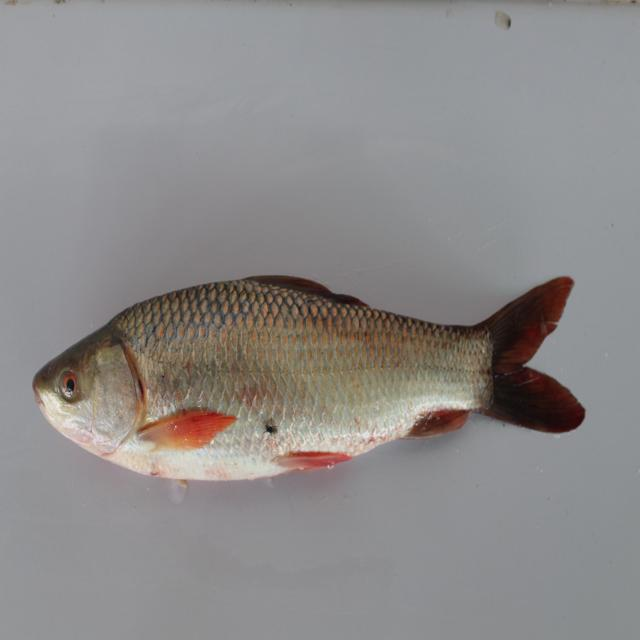Rohu: (23, 268, 592, 492)
